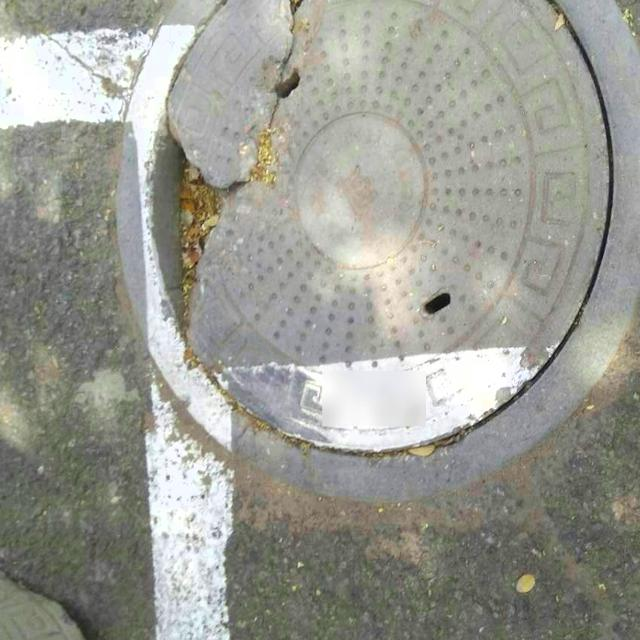broke: (119, 0, 640, 506)
